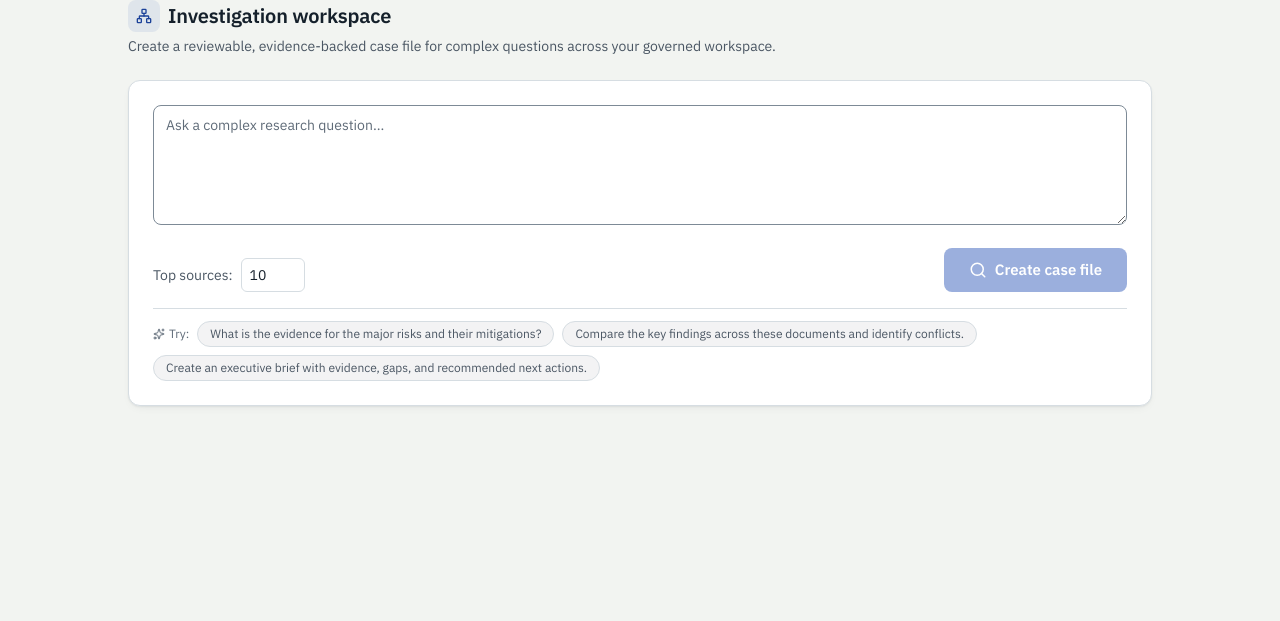
InvestigationPage — background job + polling (BUG-10) › starts the job (202), polls progress, and renders real markdown once done
The width and height of the screenshot is (1280, 621).
In the text box with placeholder "Ask a complex research question...": (640, 165) [153, 105, 1127, 225], type "What are the key risks?"
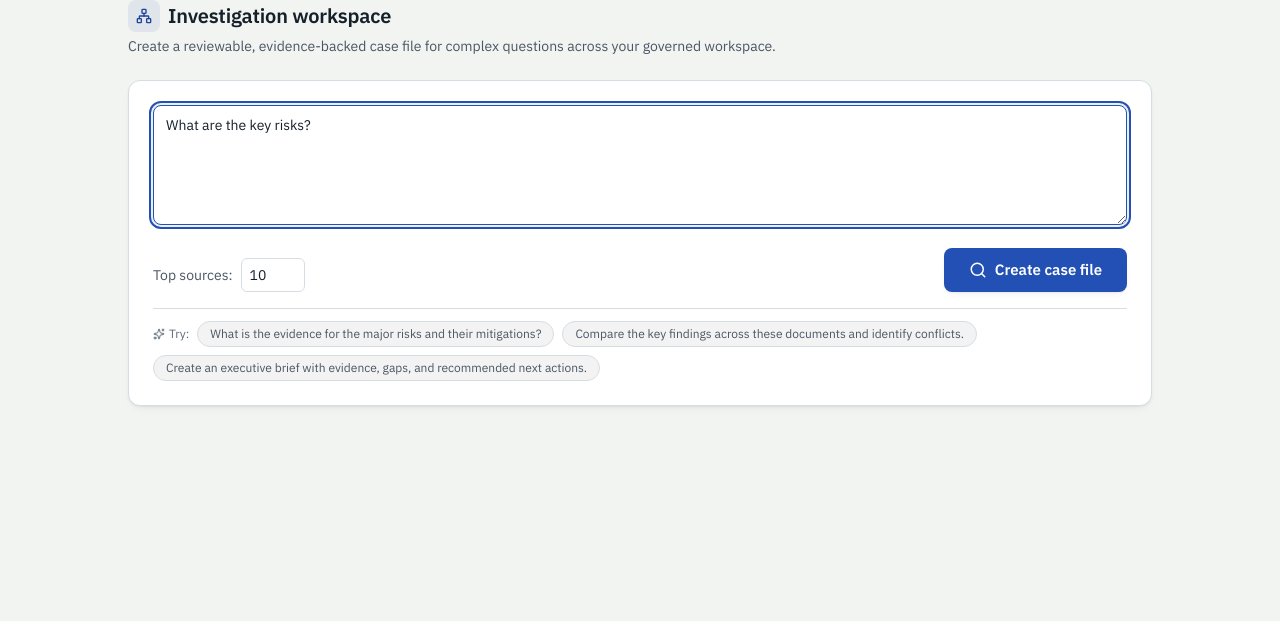
Click the button "Create case file": (1035, 270) [944, 248, 1127, 292]
(page scrolled)
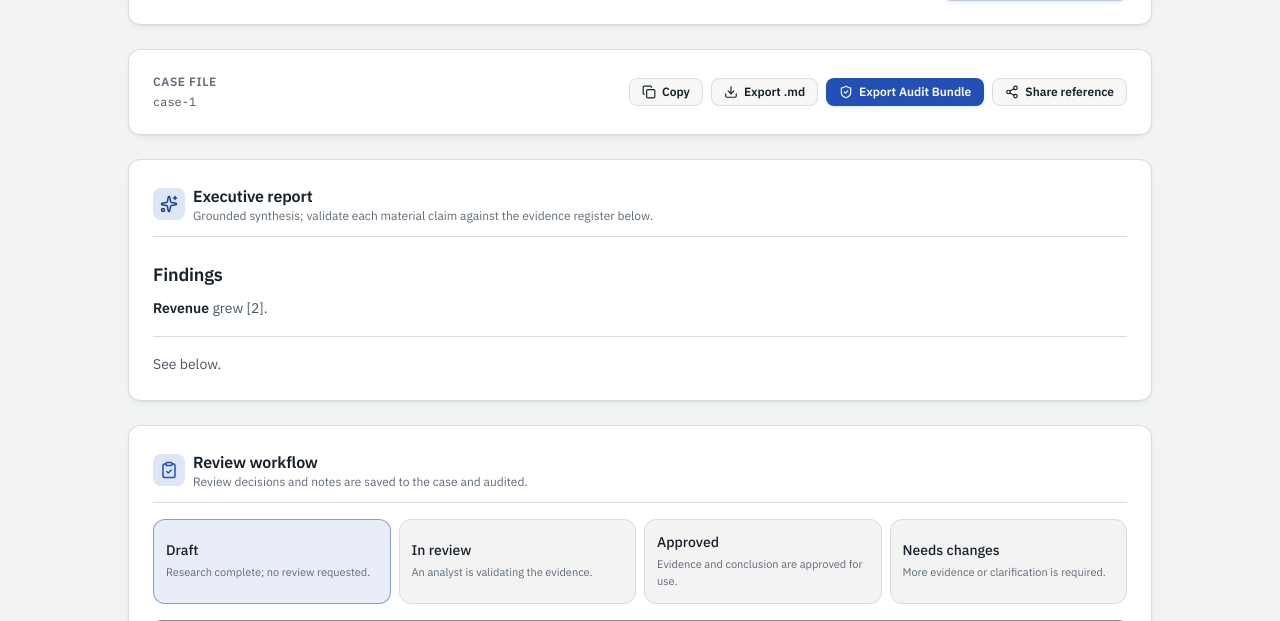
Check: the text "Revenue grew [2]." is shown, box [153, 299, 268, 317]
